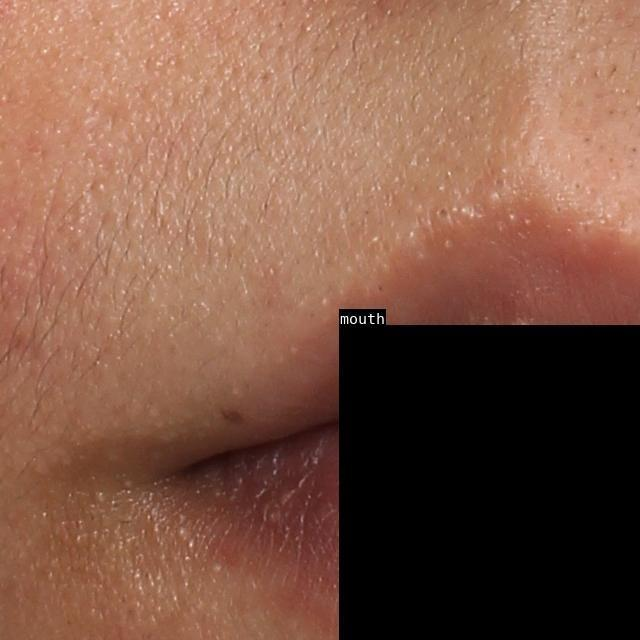comedo: (435, 206, 450, 222)
nevus: (220, 402, 246, 425)
